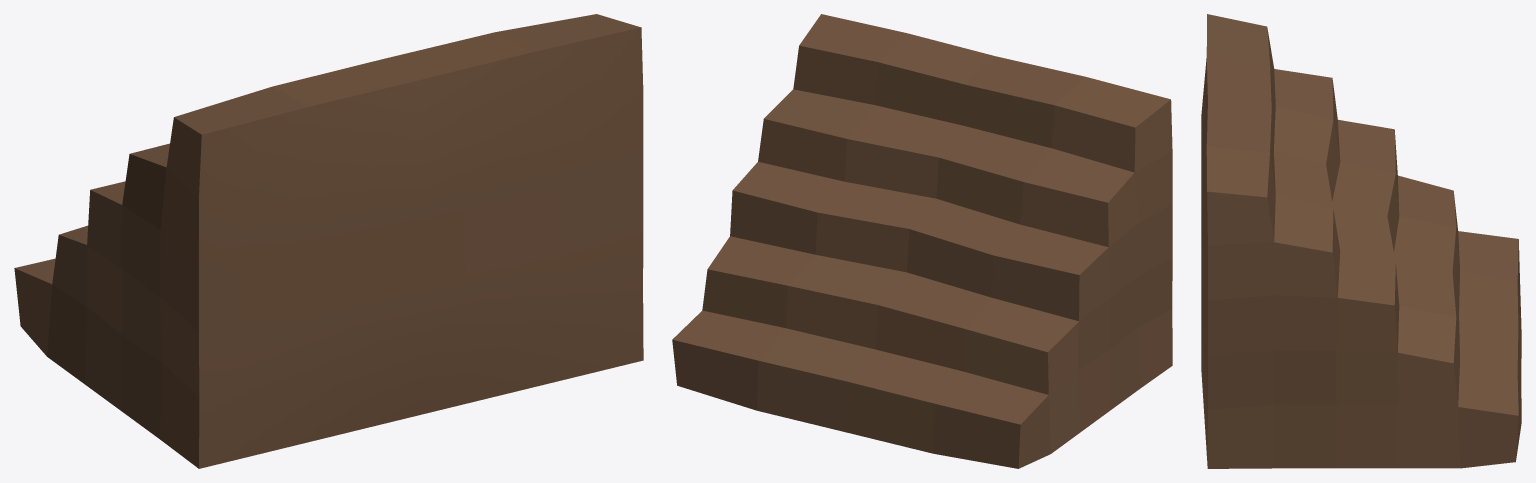
File: Stone_Stairs_Small.fbx
3 views of the same model, side by side, from view 1: azimuth 30°, elevation 25°; view 2: azimuth 150°, elevation 25°; view 3: azimuth 270°, elevation 25° (orthographic). The views are drawn at different scales.
Parts seen in each view (by area): view 1: Stone_Stairs_Small; view 2: Stone_Stairs_Small; view 3: Stone_Stairs_Small.
Part boxes in pixels (box(x1,y1,x2,y2)): Stone_Stairs_Small: box(14, 14, 643, 468); Stone_Stairs_Small: box(672, 14, 1172, 468); Stone_Stairs_Small: box(1201, 14, 1521, 468).
Size of the model in its own units: 202 by 146 by 152.
